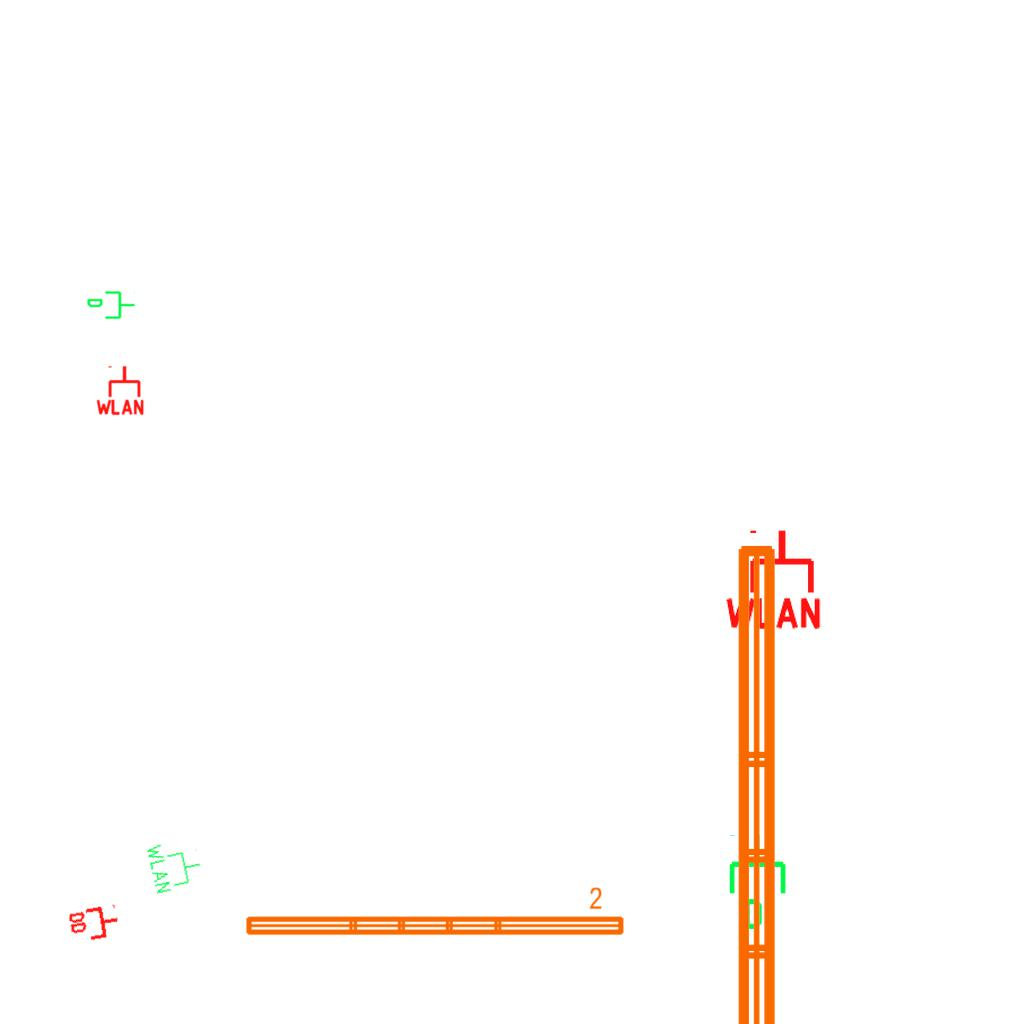Ambulanz_Pendelleuchte_LED: (726, 535, 838, 1024), (241, 885, 628, 941)
Datenanschluss_einfach: (725, 832, 794, 932), (86, 289, 136, 323)
Datenanschluss_zweifach: (65, 903, 123, 946)
WLAN: (721, 526, 825, 631), (143, 833, 207, 897), (94, 364, 146, 416)
